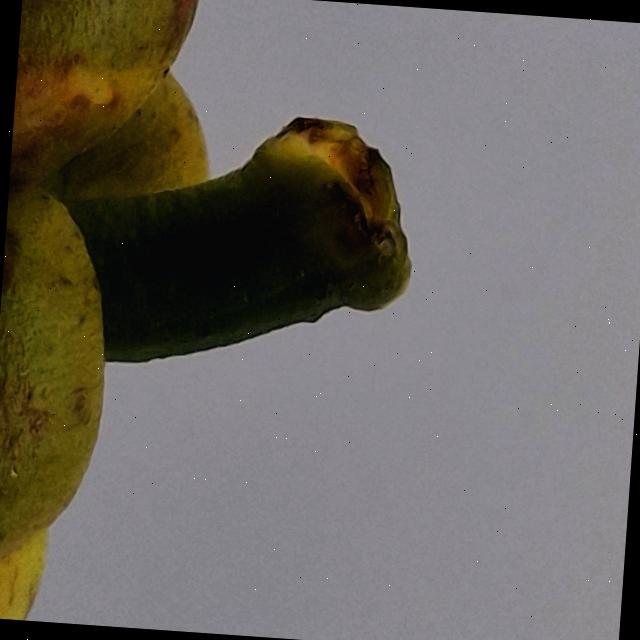mangosteen: (0, 0, 467, 640)
